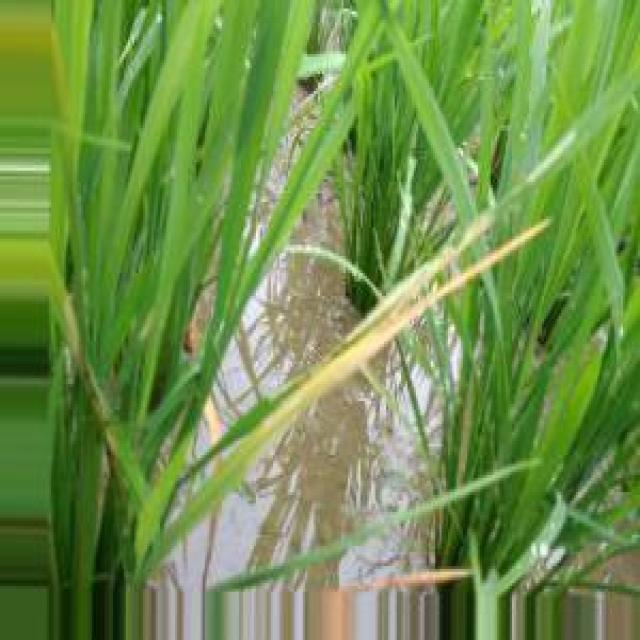Rice Tungro: (175, 213, 549, 538), (371, 568, 471, 588)
